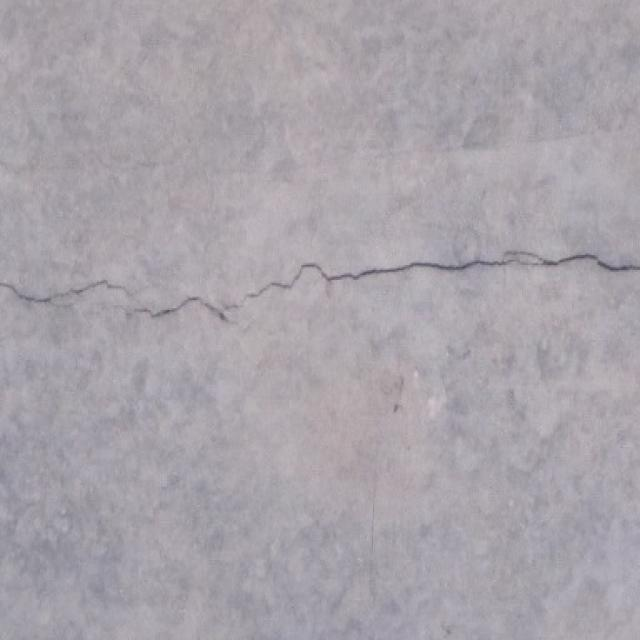crack: (3, 241, 639, 328)
